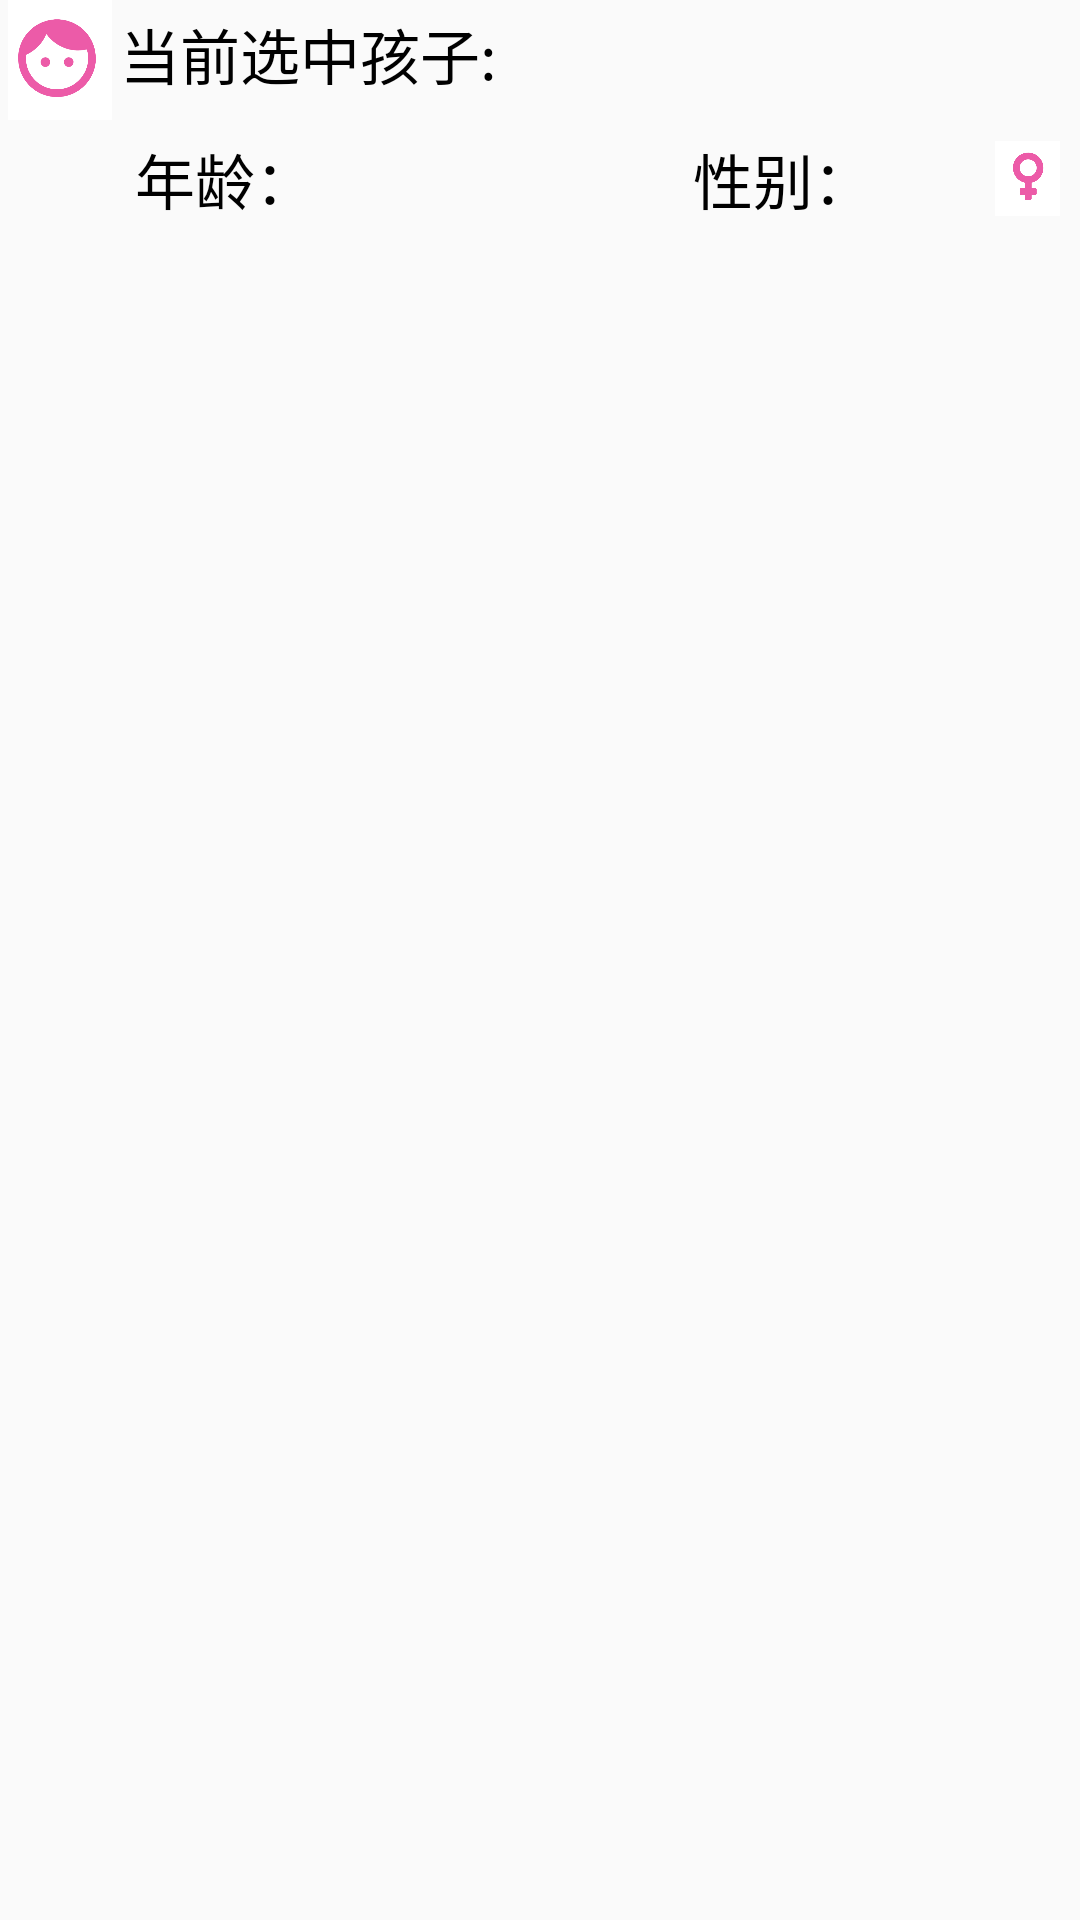

Where to tap for icons on this 1080*1920 app screen, as (x=x, y=y):
girl: (x=57, y=58)
sexsignal girl: (x=1028, y=176)
